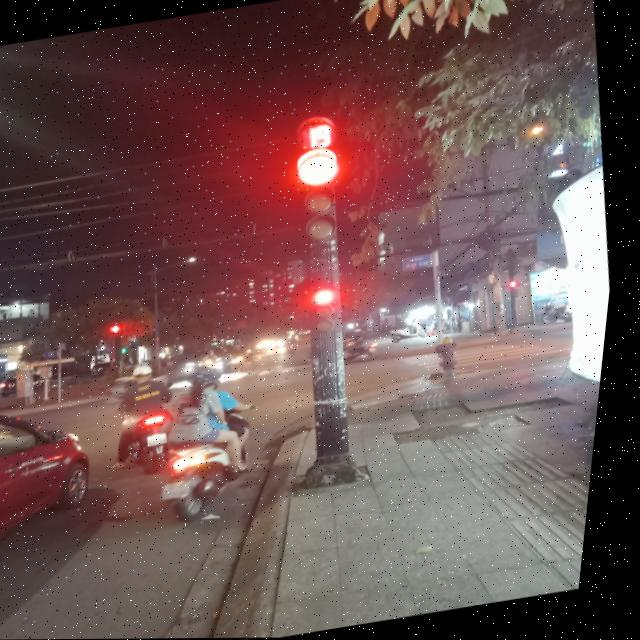Red: (289, 148, 360, 247), (308, 281, 352, 339)
